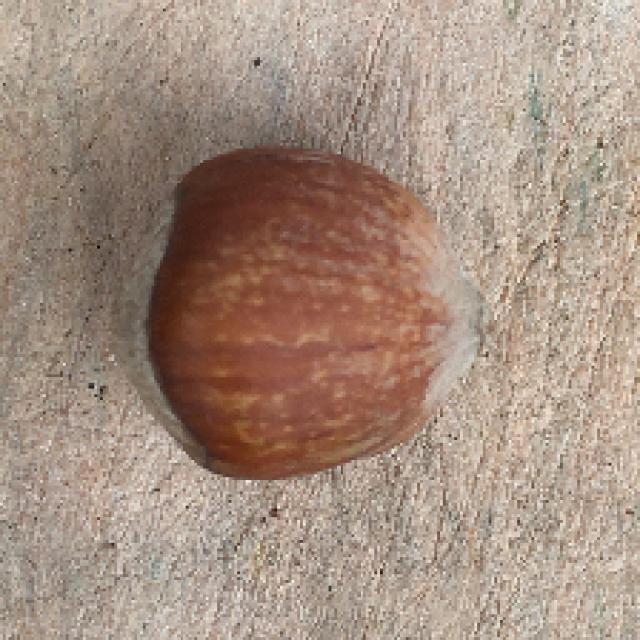qualityHazelnut: (110, 141, 482, 485)
